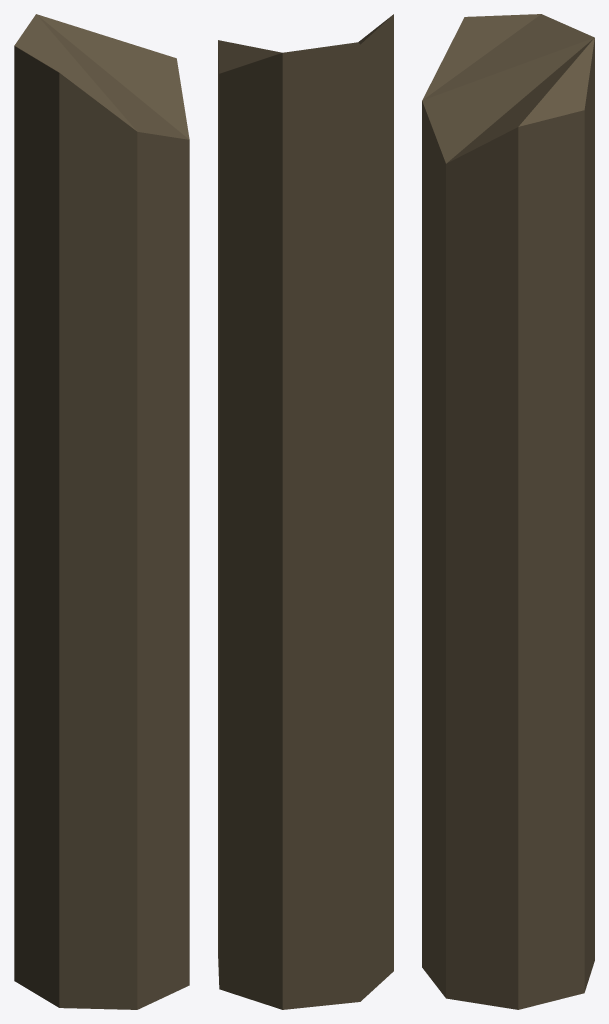
The model's file is EVT_CASTLE_LIFT_03.OBJ.
3 renders of one model, left to right at view 1: azimuth 30°, elevation 25°; view 2: azimuth 150°, elevation 25°; view 3: azimuth 270°, elevation 25°, orthographic. The views are drawn at different scales.
Visible parts, largest first — view 1: EVT_CASTLE_LIFT_03; view 2: EVT_CASTLE_LIFT_03; view 3: EVT_CASTLE_LIFT_03.
Boxes of the visible parts, x1,y1,x2,y2 form: EVT_CASTLE_LIFT_03: [14, 14, 189, 1009]; EVT_CASTLE_LIFT_03: [218, 14, 393, 1009]; EVT_CASTLE_LIFT_03: [422, 14, 594, 1009].
Size of the model in its own units: 1.93 by 11.46 by 1.94.
